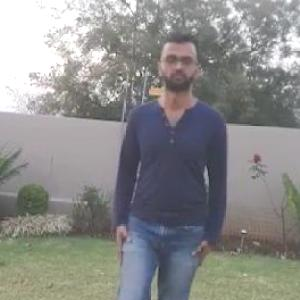follow: (112, 43, 222, 299)
